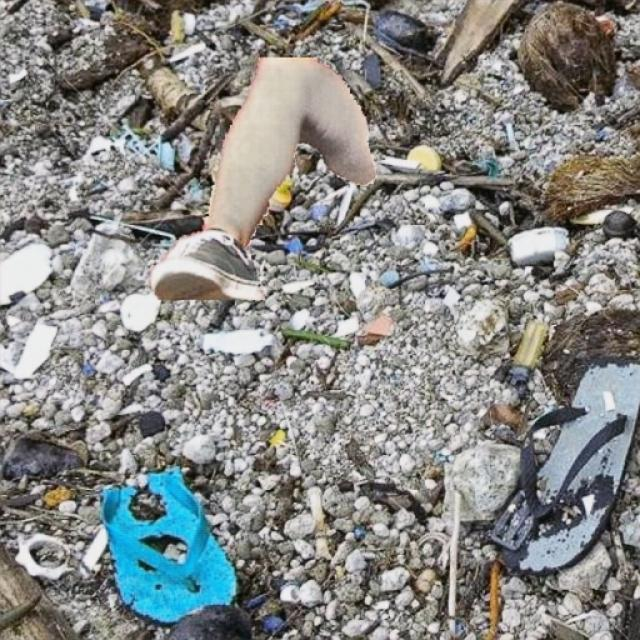Person in Rubble: (150, 58, 376, 298)
